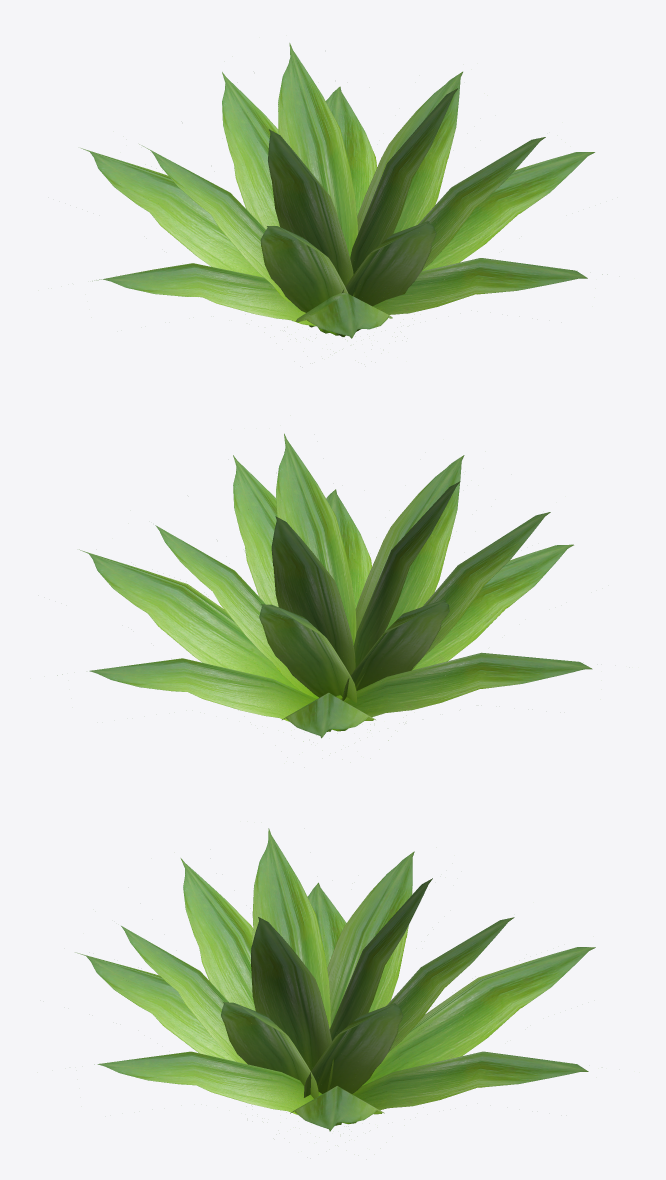
File: plant15.FBX
3 renders of one model, top to bottom at view 1: azimuth 30°, elevation 25°; view 2: azimuth 150°, elevation 25°; view 3: azimuth 270°, elevation 25°, orthographic.
Parts seen in each view (by area): view 1: plant15; view 2: plant15; view 3: plant15.
Boxes of the visible parts, x1=… form: plant15: x1=81, y1=43, x2=607, y2=339; plant15: x1=57, y1=433, x2=592, y2=741; plant15: x1=75, y1=828, x2=595, y2=1131.
Bounding box in the file's own units: 5.4 × 2.42 × 5.22.
